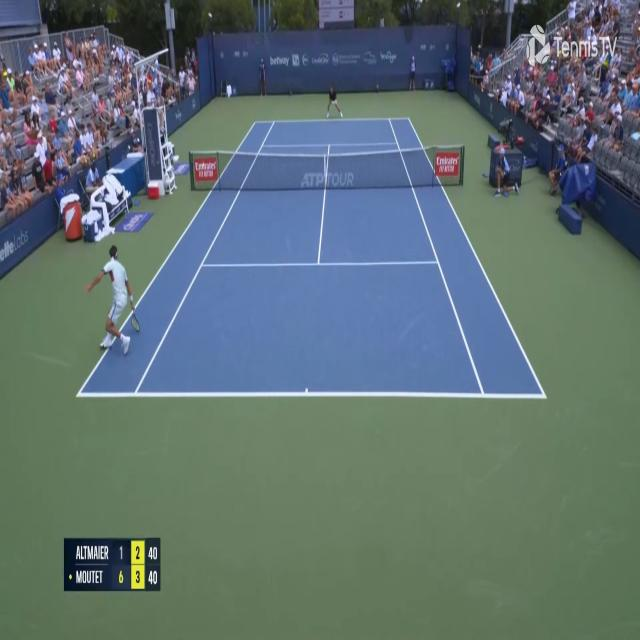tennis-player: (85, 239, 143, 357), (325, 82, 345, 120)
